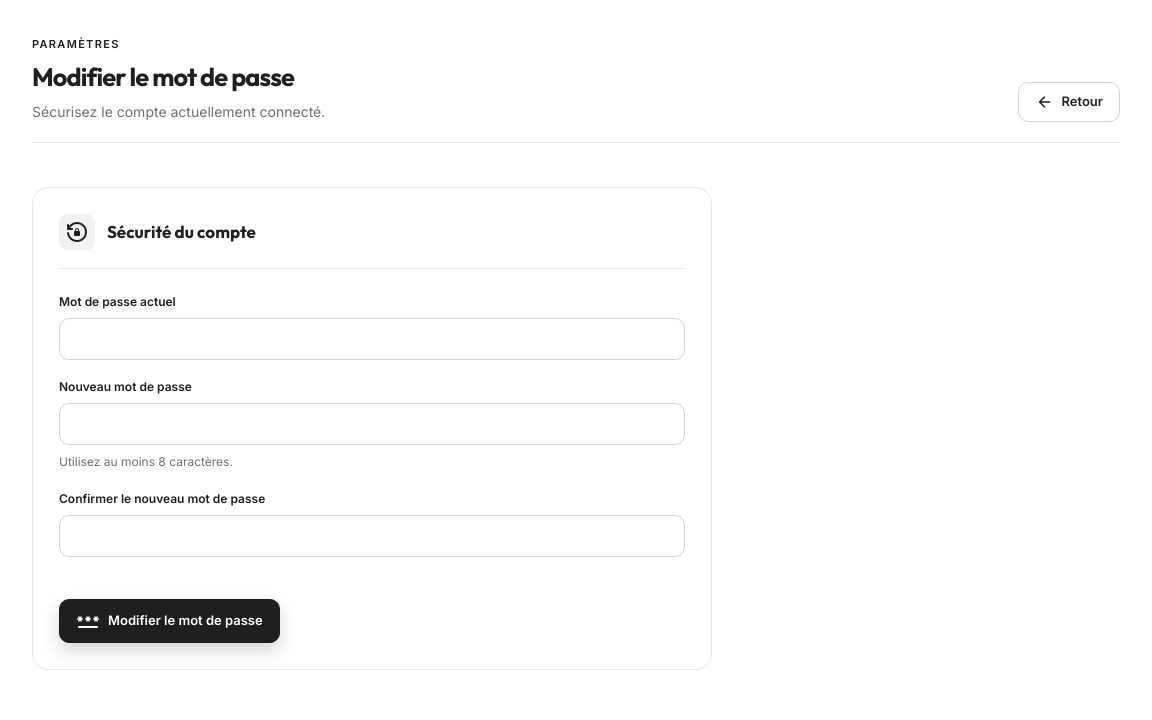
Scenario: PasswordSettingsPage › modifie le mot de passe et vide le formulaire
The width and height of the screenshot is (1152, 720).
Type "ancien-secret" into the password field labelled "Mot de passe actuel".
click(372, 339); type("ancien-secret")  # box [59,318,685,360]
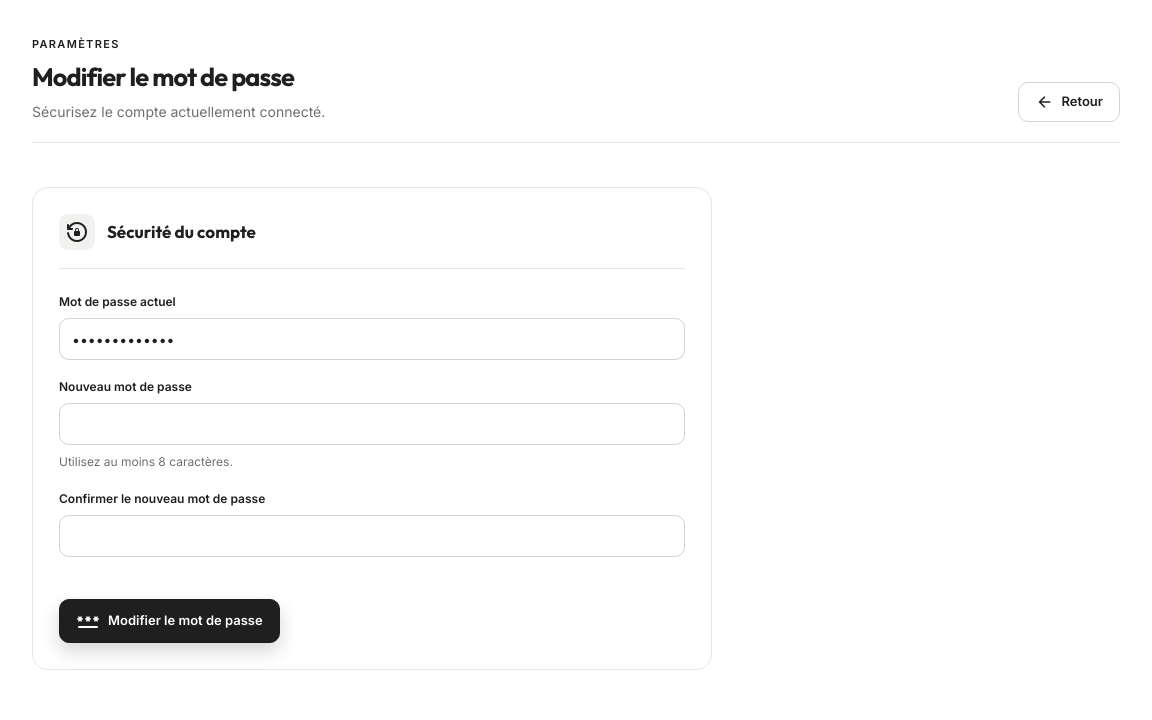
Type "nouveau-secret" into the password field labelled "Nouveau mot de passe".
click(372, 424); type("nouveau-secret")  # box [59,403,685,445]
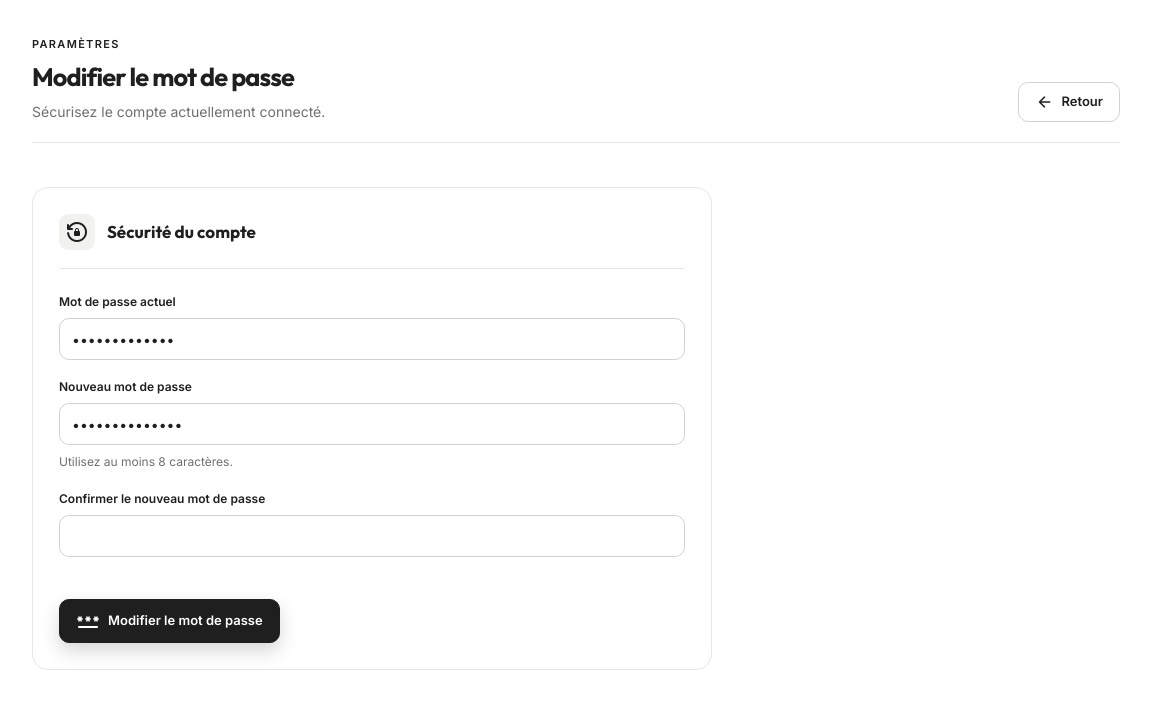
Type "nouveau-secret" into the password field labelled "Confirmer le nouveau mot de passe".
click(372, 536); type("nouveau-secret")  # box [59,515,685,557]
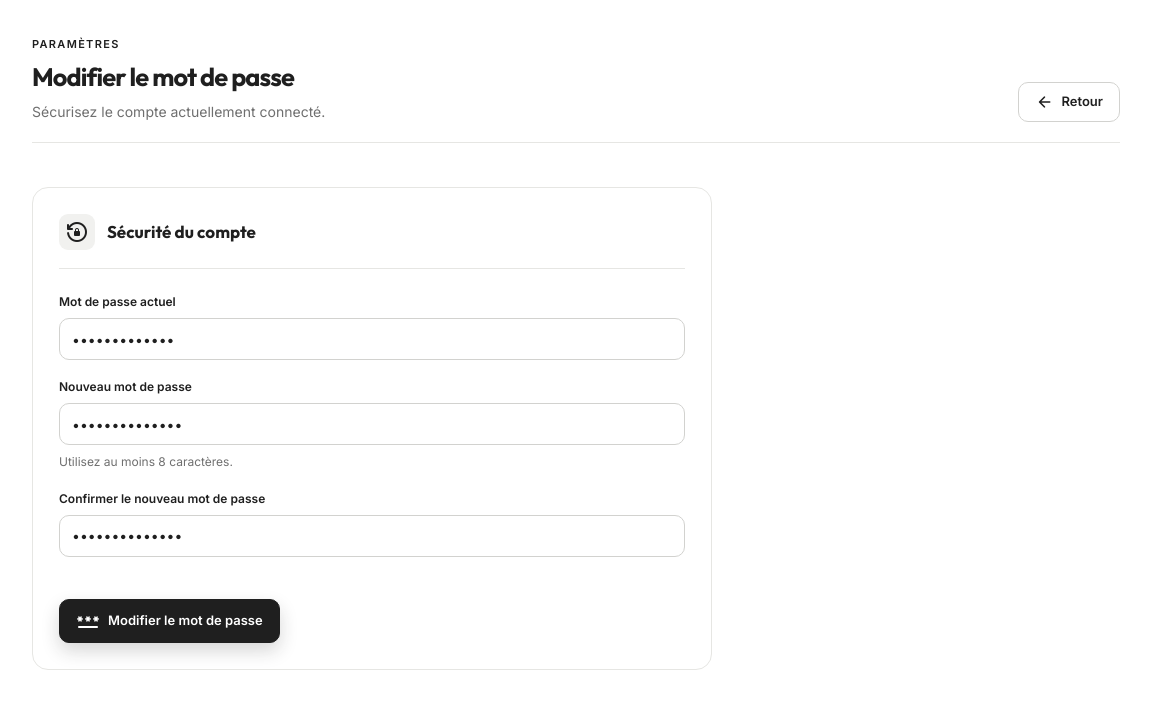
Click the button "Modifier le mot de passe".
click(169, 621)  # box [59,599,280,643]
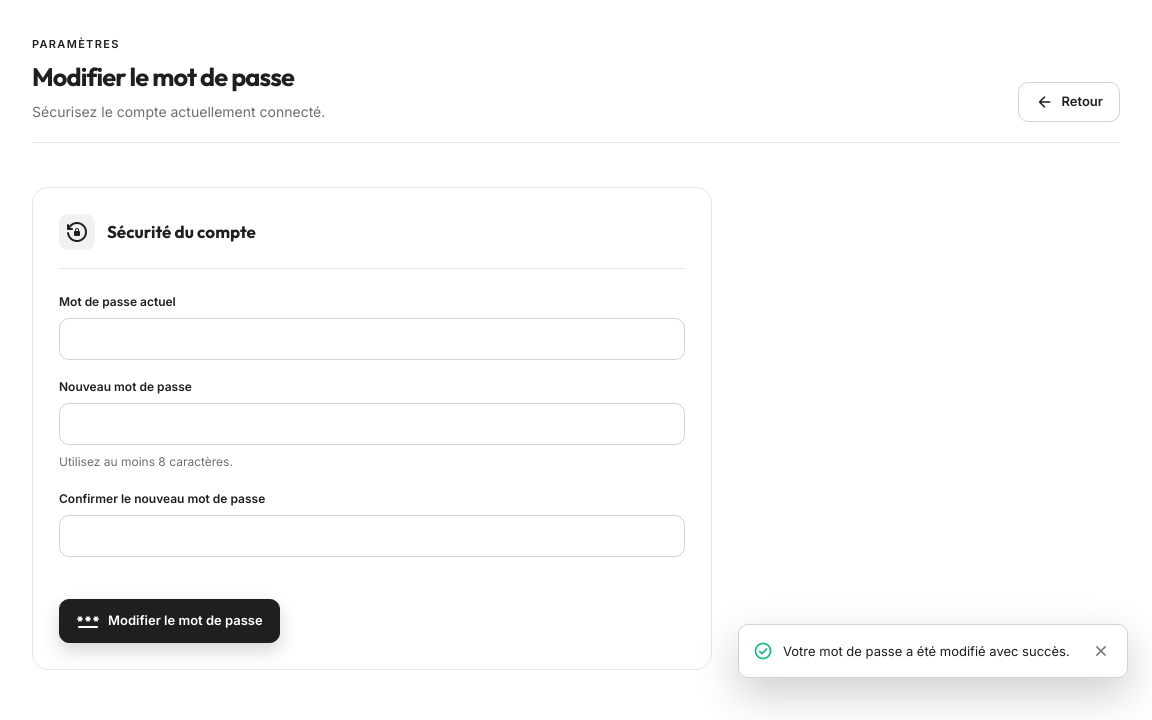
Expected: the message reads "Votre mot de passe a été modifié avec succès.", [783,643,1070,659]
Expected: the password field labelled "Mot de passe actuel" is empty, [59,318,685,360]
